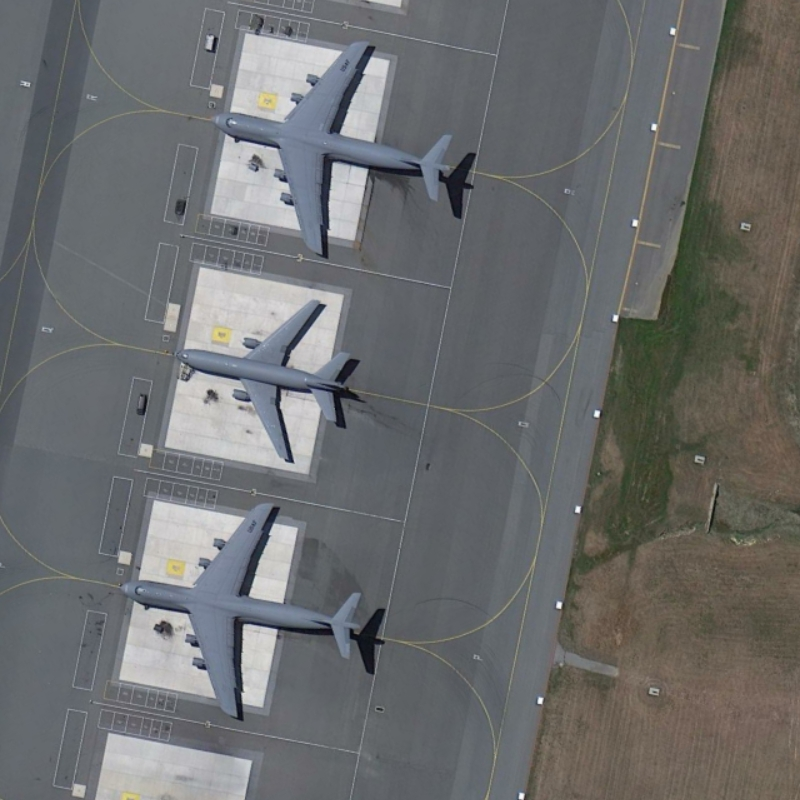A18: (167, 294, 358, 469)
A4: (202, 35, 462, 263), (121, 496, 371, 716)
